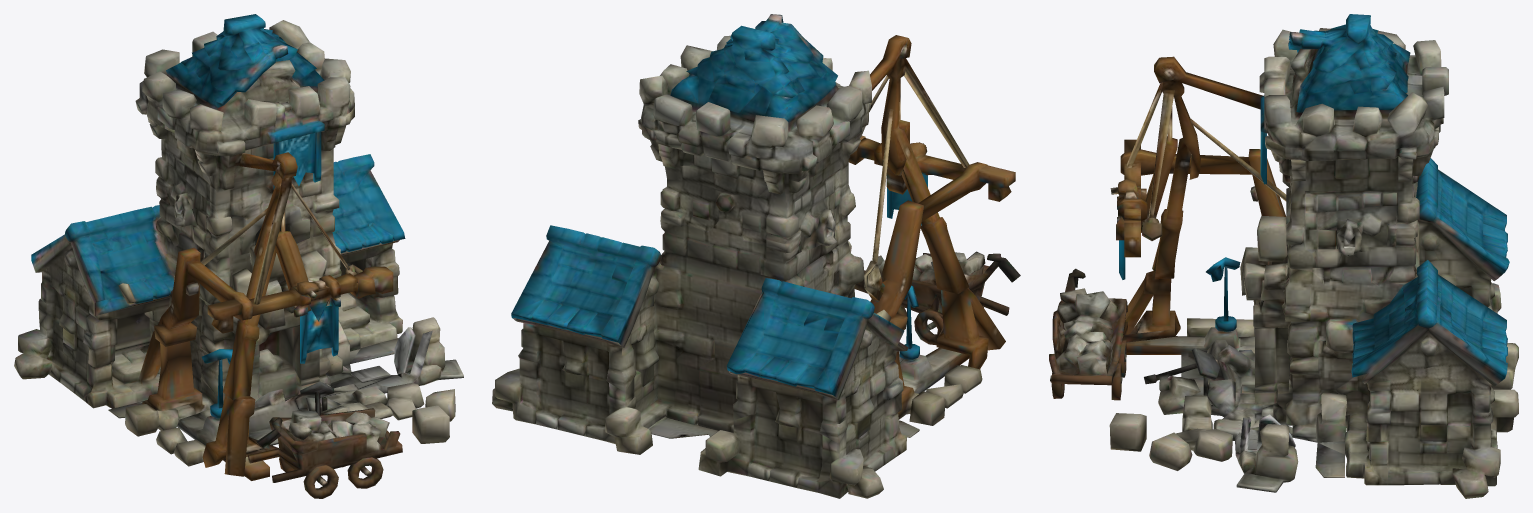
The model's file is cantera_tripo.glb.
The picture shows the model from 3 angles, left to right: view 1: azimuth 30°, elevation 25°; view 2: azimuth 150°, elevation 25°; view 3: azimuth 270°, elevation 25°; orthographic projection. The views are drawn at different scales.
Parts seen in each view (by area): view 1: tripo_node_a75dfab5-c808-4a16-a5fb-17e49571dfff; view 2: tripo_node_a75dfab5-c808-4a16-a5fb-17e49571dfff; view 3: tripo_node_a75dfab5-c808-4a16-a5fb-17e49571dfff.
Boxes of the visible parts, left/top/right/bottom form: tripo_node_a75dfab5-c808-4a16-a5fb-17e49571dfff: left=14, top=14, right=463, bottom=498; tripo_node_a75dfab5-c808-4a16-a5fb-17e49571dfff: left=492, top=14, right=1020, bottom=498; tripo_node_a75dfab5-c808-4a16-a5fb-17e49571dfff: left=1049, top=14, right=1518, bottom=498.
Bounding box in the file's own units: 0.9382 × 0.8884 × 0.9805.
Materials: 1 (1 with a texture image).
